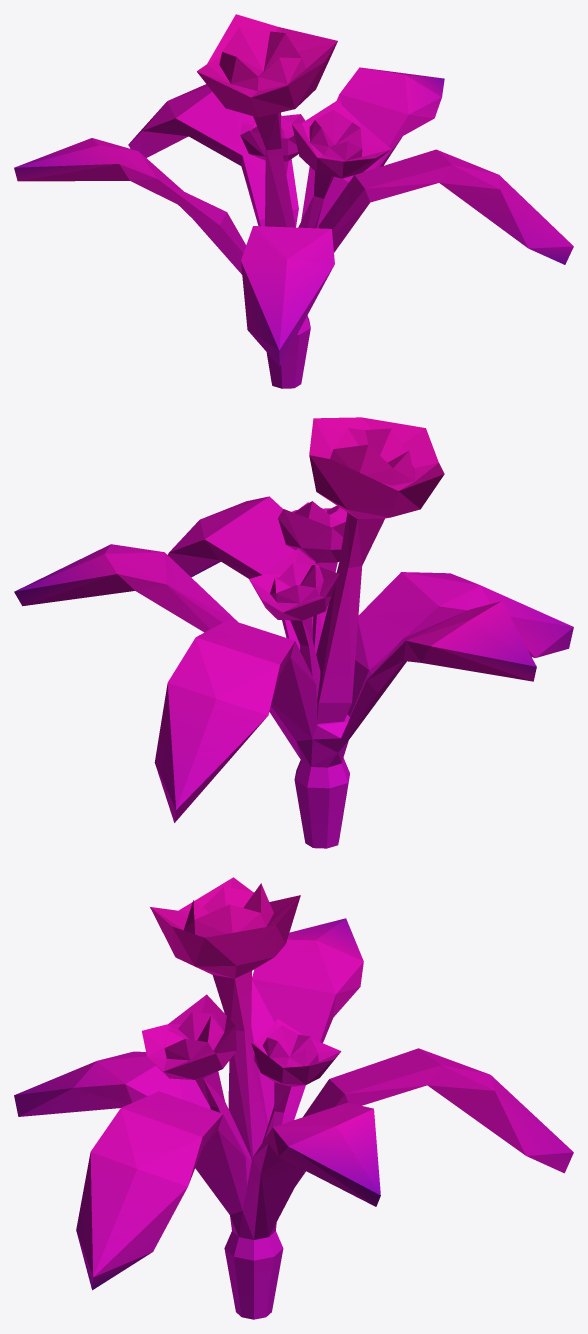
The model's file is synty-plant-07.gltf.
3 renders of one model, top to bottom at view 1: azimuth 30°, elevation 25°; view 2: azimuth 150°, elevation 25°; view 3: azimuth 270°, elevation 25°, orthographic. The views are drawn at different scales.
Visible parts, largest first — view 1: SM_Plant_07; view 2: SM_Plant_07; view 3: SM_Plant_07.
Part boxes in pixels (box(x1,y1,x2,y2)): SM_Plant_07: box(14, 14, 573, 388); SM_Plant_07: box(14, 417, 573, 848); SM_Plant_07: box(14, 877, 573, 1319).
Bounding box in the file's own units: 0.99 × 0.7703 × 0.9649.
